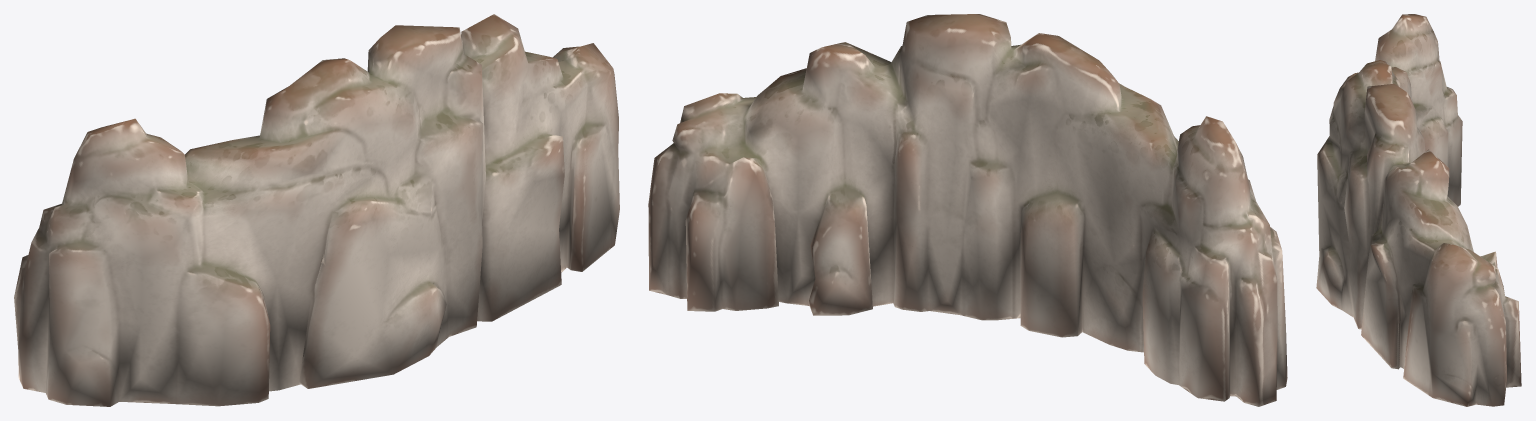
File: Rock Wall 3.FBX
3 renders of one model, left to right at view 1: azimuth 30°, elevation 25°; view 2: azimuth 150°, elevation 25°; view 3: azimuth 270°, elevation 25°, orthographic. The views are drawn at different scales.
Parts seen in each view (by area): view 1: Rock Wall 3; view 2: Rock Wall 3; view 3: Rock Wall 3.
Boxes of the visible parts, x1,y1,x2,y2 form: Rock Wall 3: (14, 14, 619, 406); Rock Wall 3: (648, 14, 1287, 406); Rock Wall 3: (1316, 14, 1521, 406).
Bounding box in the file's own units: 10354 × 4682 × 3944.
Materials: 1 (1 with a texture image).
